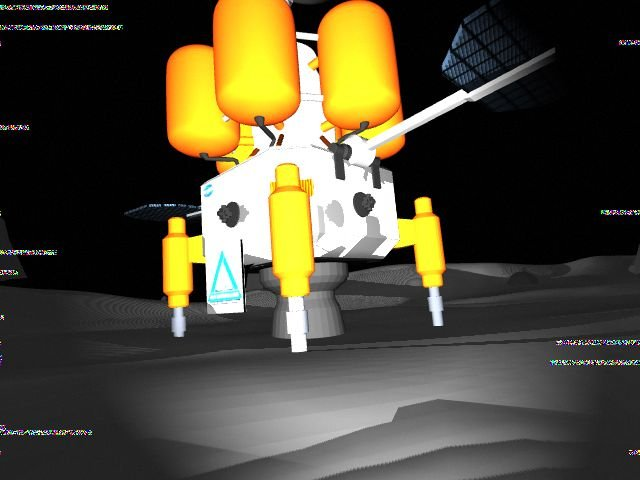basemarker: (207, 250, 242, 305)
